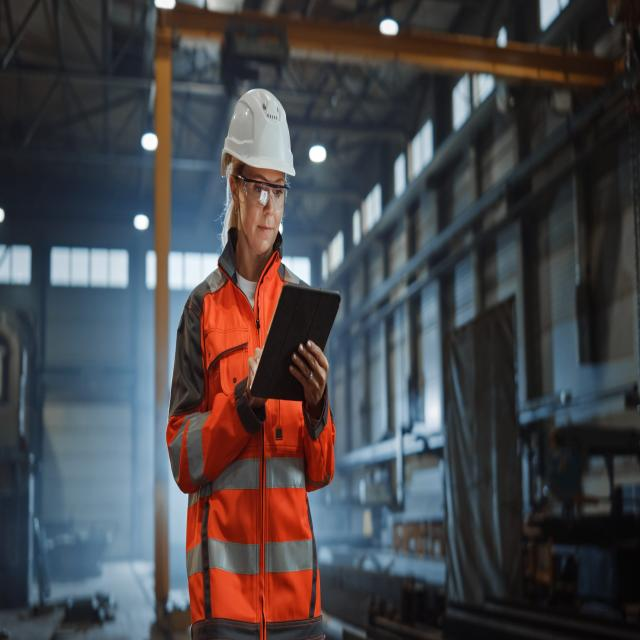goggles: (230, 173, 298, 207)
helmet: (221, 82, 306, 183)
vest: (193, 251, 320, 640)
